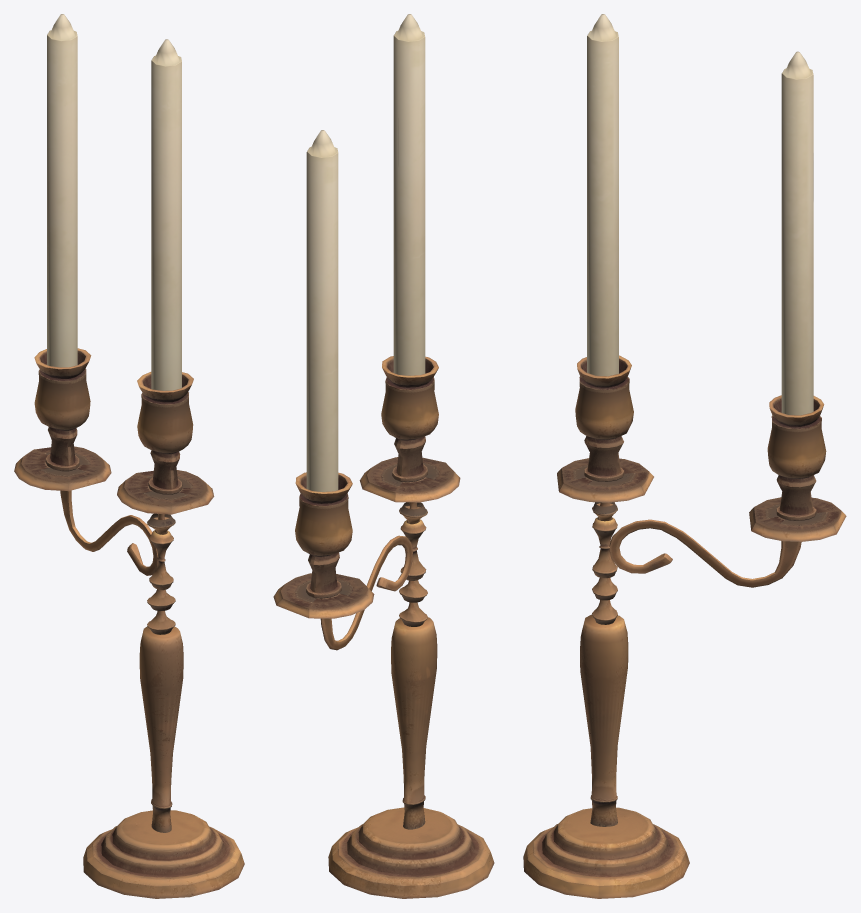
The model's file is SM_CandlestickSidedouble.FBX.
The picture shows the model from 3 angles, left to right: view 1: azimuth 30°, elevation 25°; view 2: azimuth 150°, elevation 25°; view 3: azimuth 270°, elevation 25°; orthographic projection. The views are drawn at different scales.
Visible parts, largest first — view 1: SM_CandlestickSidedouble; view 2: SM_CandlestickSidedouble; view 3: SM_CandlestickSidedouble.
Boxes of the visible parts, <box> form: SM_CandlestickSidedouble: <box>14,14,244,898</box>; SM_CandlestickSidedouble: <box>273,14,494,898</box>; SM_CandlestickSidedouble: <box>523,14,846,898</box>.
Size of what is drawn, in the model's own units: 16.89 by 32.66 by 94.74.
